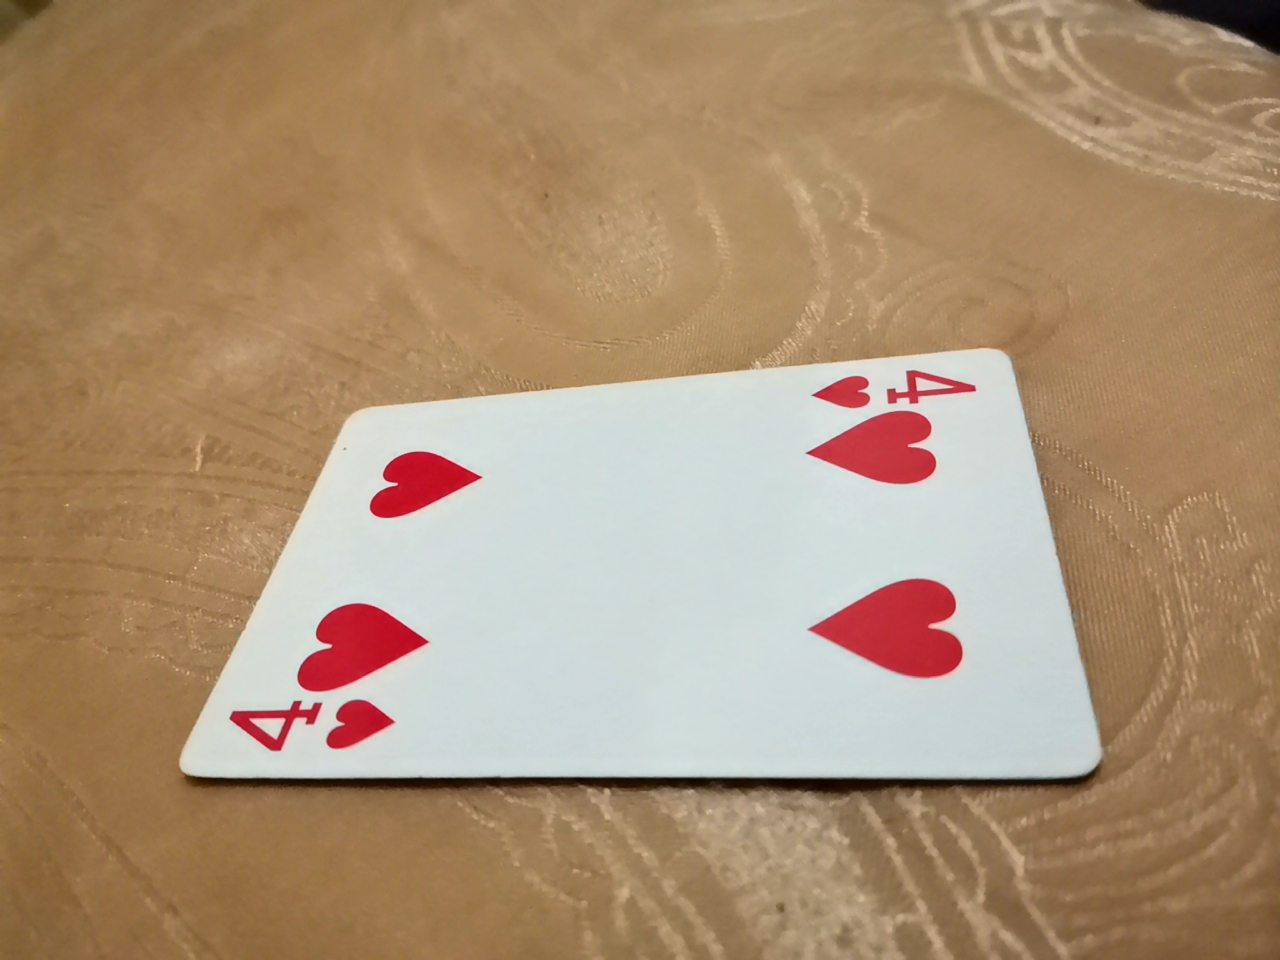hx 4: (168, 354, 1093, 808)
